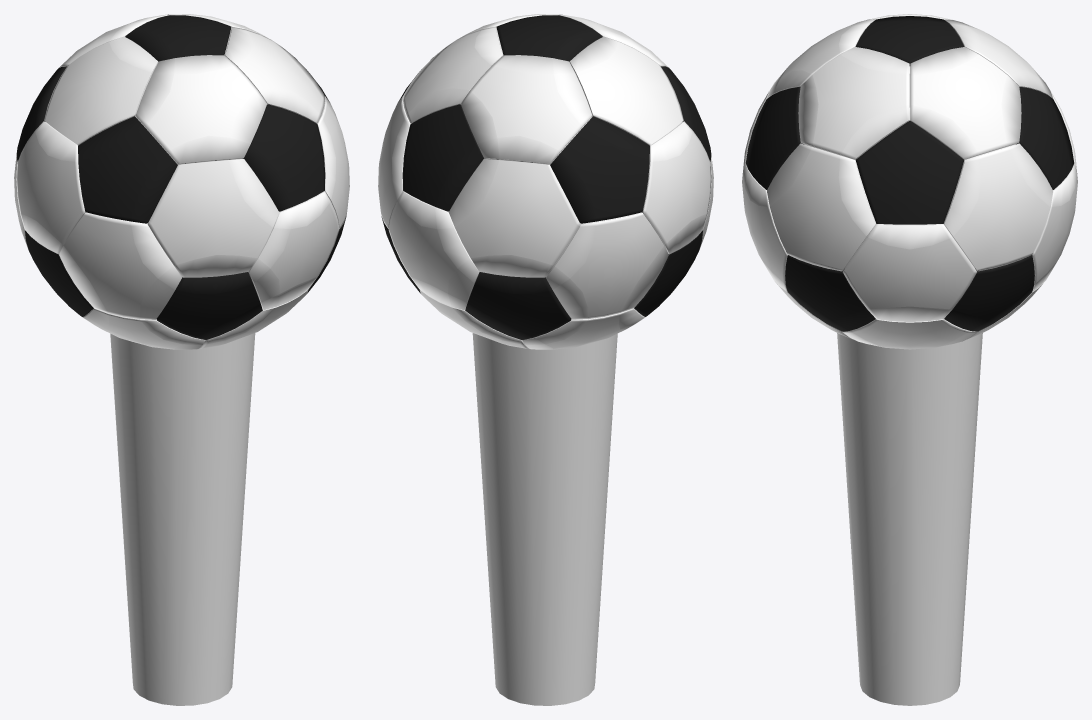
File: Football Knob.fbx
3 views of the same model, side by side, from view 1: azimuth 30°, elevation 25°; view 2: azimuth 150°, elevation 25°; view 3: azimuth 270°, elevation 25° (orthographic).
Visible parts, largest first — view 1: FootballBall, Football_Gear; view 2: FootballBall, Football_Gear; view 3: FootballBall, Football_Gear.
Boxes of the visible parts, <box> form: FootballBall: <box>14,14,349,349</box>; Football_Gear: <box>110,333,255,705</box>; FootballBall: <box>378,14,713,349</box>; Football_Gear: <box>472,333,617,705</box>; FootballBall: <box>742,14,1077,349</box>; Football_Gear: <box>837,333,982,705</box>.
Bounding box in the file's own units: 30.33 × 65.25 × 30.33.
